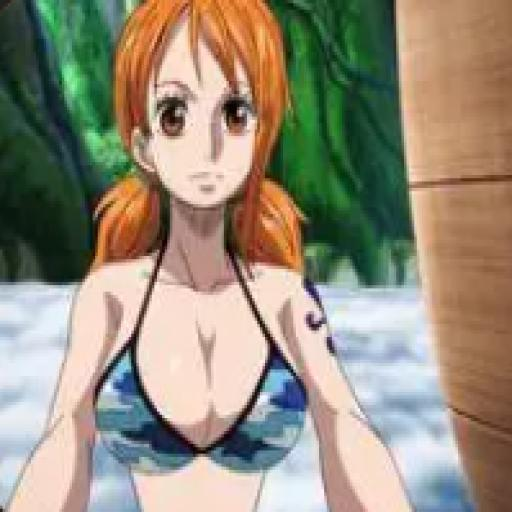Nami: (1, 1, 419, 512)
